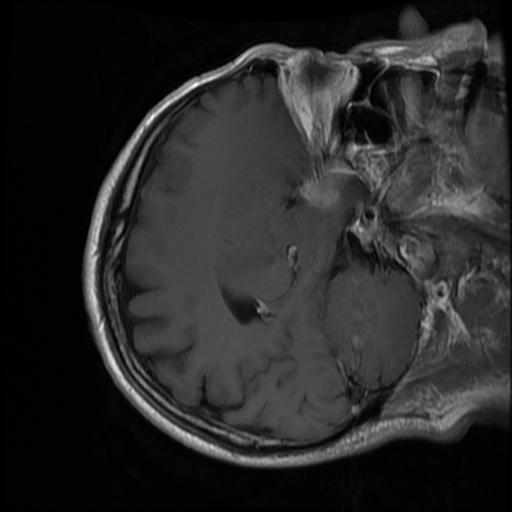meningioma: (298, 173, 340, 206)
